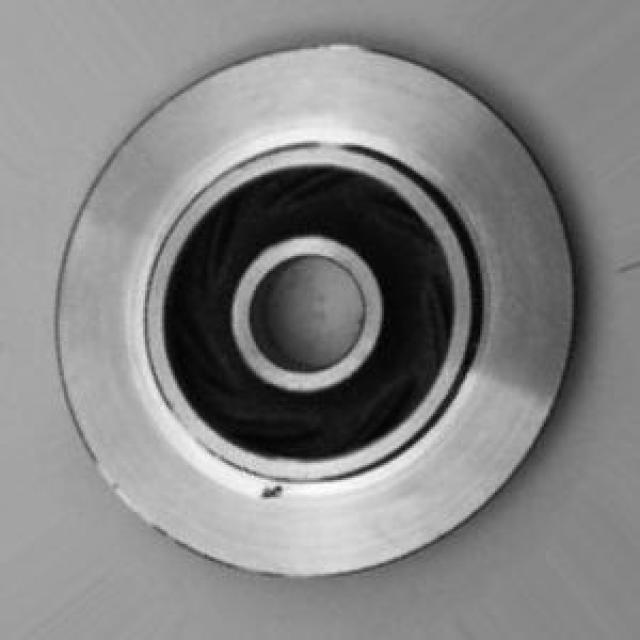Defect: (260, 483, 290, 503)
